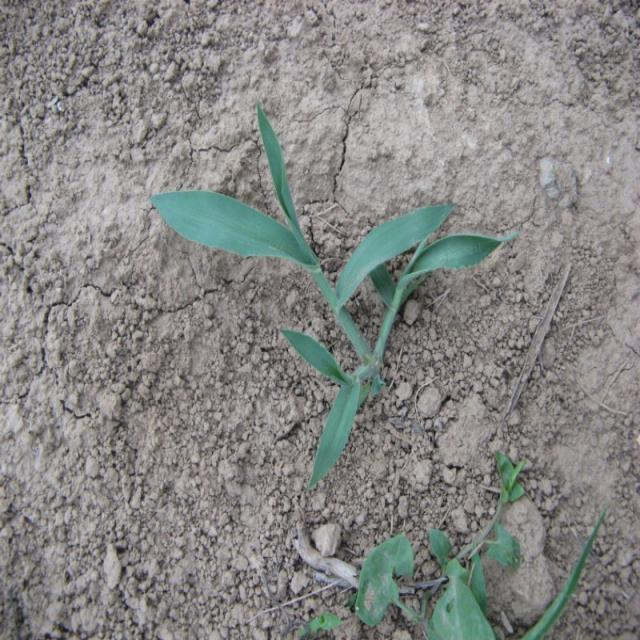bg: (151, 103, 513, 488)
